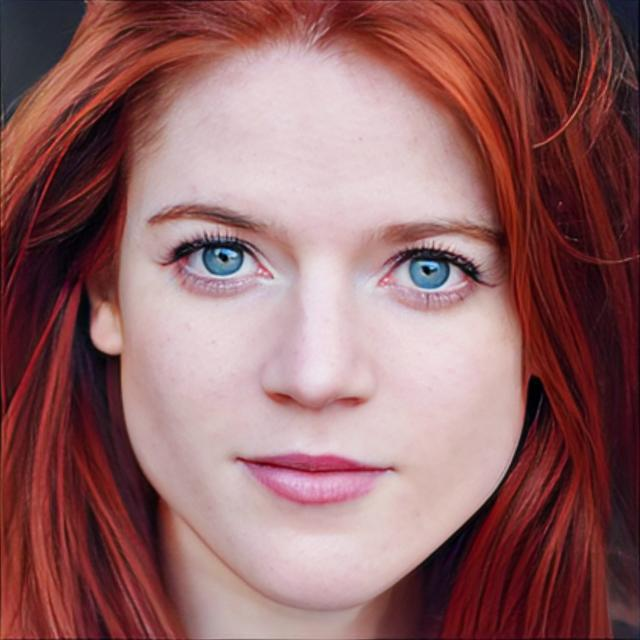neutral: (114, 42, 532, 600)
